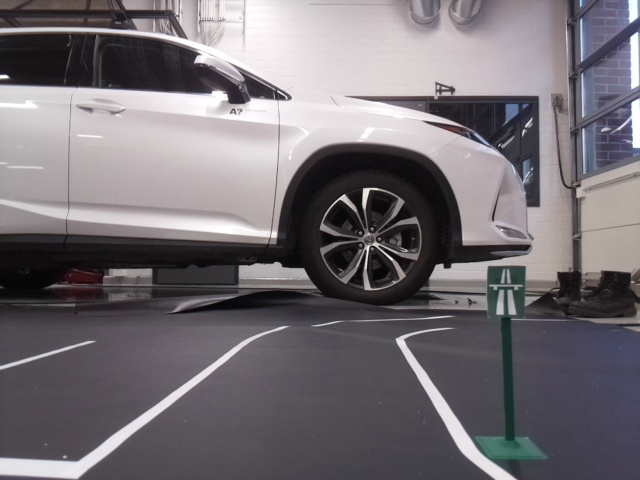HighwayEntrance: (488, 265, 524, 315)
